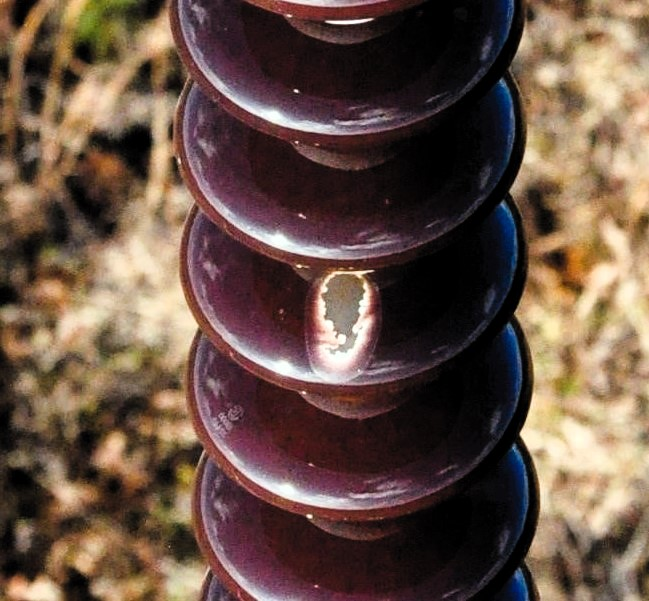Insulator flashover: (168, 204, 536, 401)
